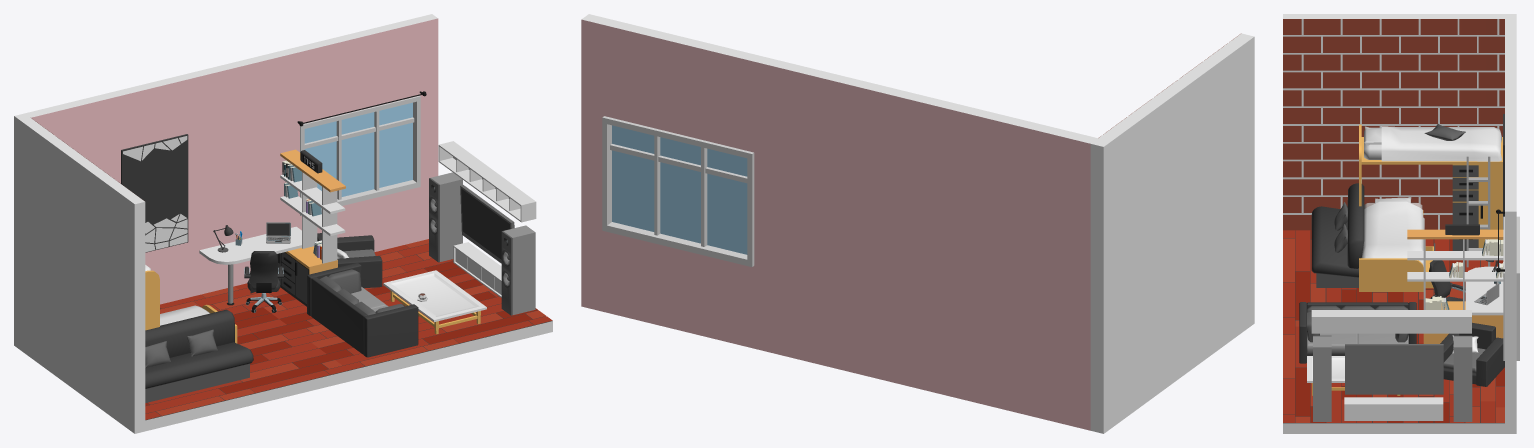
File: room_22.glb
3 renders of one model, left to right at view 1: azimuth 30°, elevation 25°; view 2: azimuth 150°, elevation 25°; view 3: azimuth 270°, elevation 25°, orthographic. The views are drawn at different scales.
Visible parts, largest first — view 1: Walls_006.079, Walls_155.001, tv_wall_019.002, floor_001.033, window_007.002, Walls_155.003, floor_001.034, office_table_018.001, Walls_011.020, sofa_005.005, sofa_015.001, picture_006.006 (+9 smaller); view 2: Walls_155.001, Walls_006.079, window_007.002, Walls_155.003, Walls_155.004, Walls_155.002; view 3: wall_005.001, tv_wall_019.002, bed_006.001, Walls_006.079, floor_001.033, floor_001.034, office_table_018.001, sofa_015.001, Walls_011.020, Walls_155.002, sofa_005.005, armchair_002.004 (+12 smaller).
Boxes of the visible parts, box(x1,y1,x2,y2) form: Walls_006.079: box(14, 113, 145, 433); Walls_155.001: box(25, 47, 302, 304); tv_wall_019.002: box(429, 141, 536, 315); floor_001.033: box(235, 239, 552, 370); window_007.002: box(300, 95, 420, 215); Walls_155.003: box(296, 19, 417, 123); floor_001.034: box(145, 286, 348, 419); office_table_018.001: box(199, 149, 345, 306); Walls_011.020: box(145, 243, 552, 431); sofa_005.005: box(307, 263, 418, 357); sofa_015.001: box(145, 309, 253, 402); picture_006.006: box(121, 134, 188, 252); Walls_155.001: box(751, 55, 1097, 430); Walls_006.079: box(1090, 33, 1254, 433); window_007.002: box(602, 116, 754, 266); Walls_155.003: box(607, 20, 758, 151); Walls_155.004: box(607, 232, 751, 347); Walls_155.002: box(581, 14, 614, 312); wall_005.001: box(1283, 19, 1504, 230); tv_wall_019.002: box(1311, 310, 1472, 421); bed_006.001: box(1359, 124, 1502, 291); Walls_006.079: box(1283, 14, 1516, 229); floor_001.033: box(1283, 326, 1504, 422); floor_001.034: box(1283, 230, 1503, 326); office_table_018.001: box(1407, 229, 1503, 343); sofa_015.001: box(1311, 183, 1364, 287); Walls_011.020: box(1283, 231, 1504, 433); Walls_155.002: box(1505, 201, 1516, 433); sofa_005.005: box(1299, 302, 1416, 363); armchair_002.004: box(1440, 322, 1504, 386).
Bounding box in the file's own units: 8 × 4.2 × 4.05.
1 material, 1 textured.
